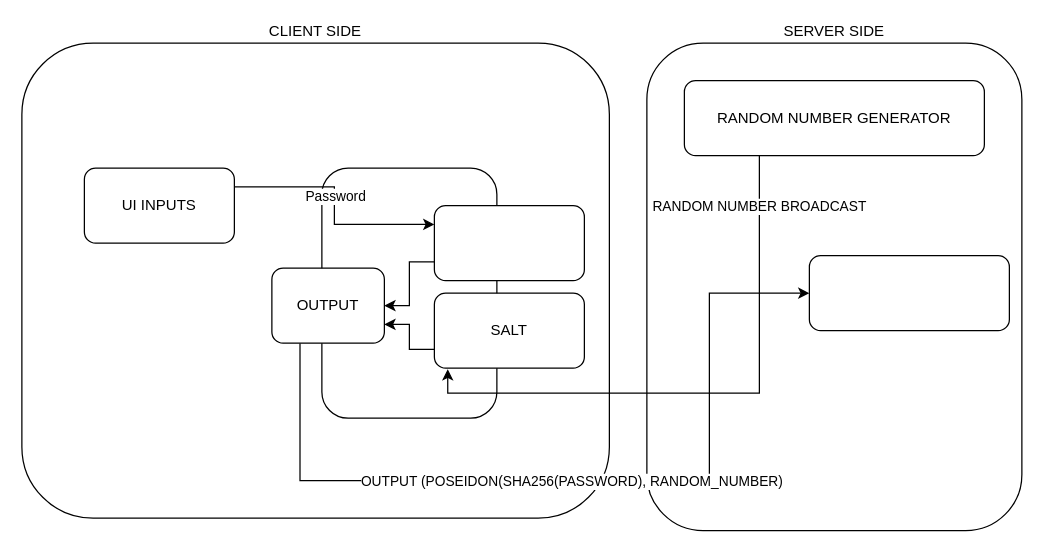
This 1044x553 diagram has some shape labels left out. The box of each missing label's shape, as (x1, y1, x2, y2) in pixels:
CIRCUITS: (321, 167, 497, 418)
SHA256: (433, 204, 584, 281)
VERIFICATION LOGIC: (808, 254, 1009, 331)
